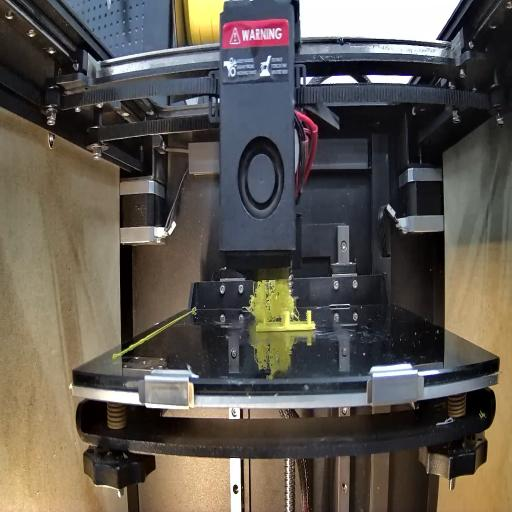spaghetti: (246, 274, 296, 321)
